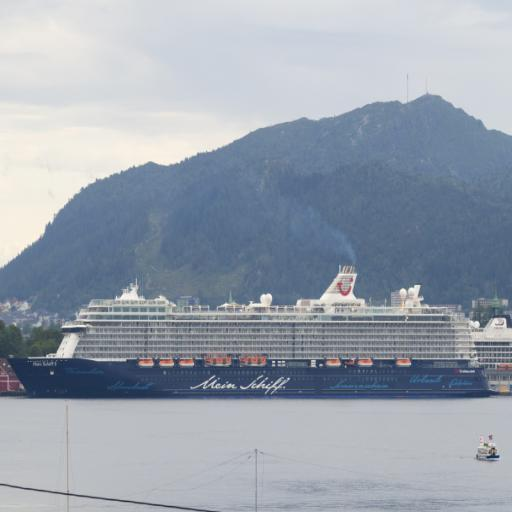cruises: (5, 262, 495, 412)
